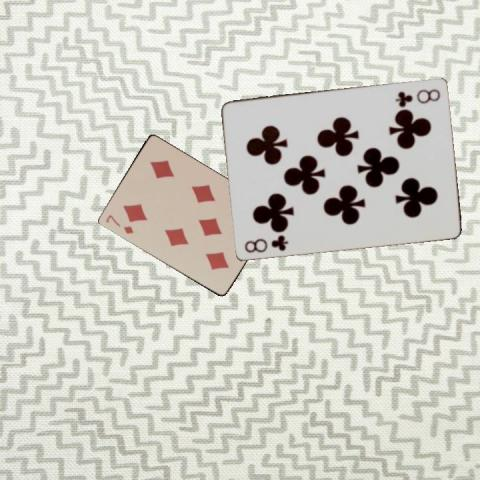7d: (103, 212, 134, 235)
8c: (241, 231, 290, 254), (393, 85, 442, 107)
